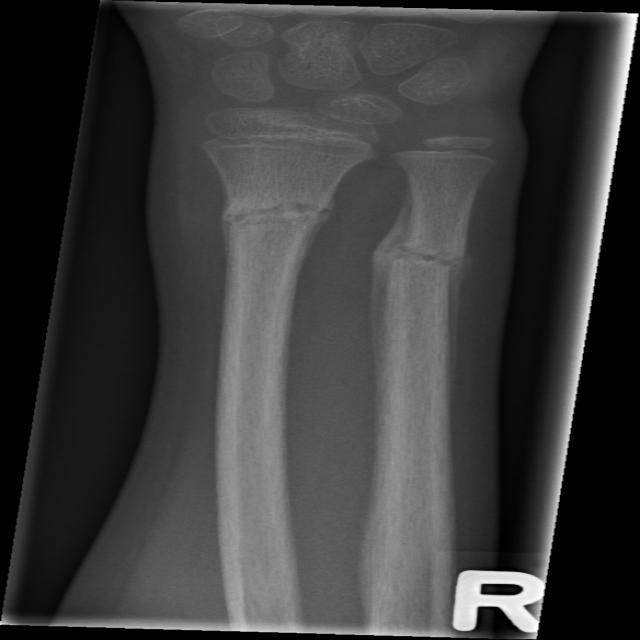radius fracture: (219, 166, 320, 265)
ulna fracture: (372, 216, 471, 310)
